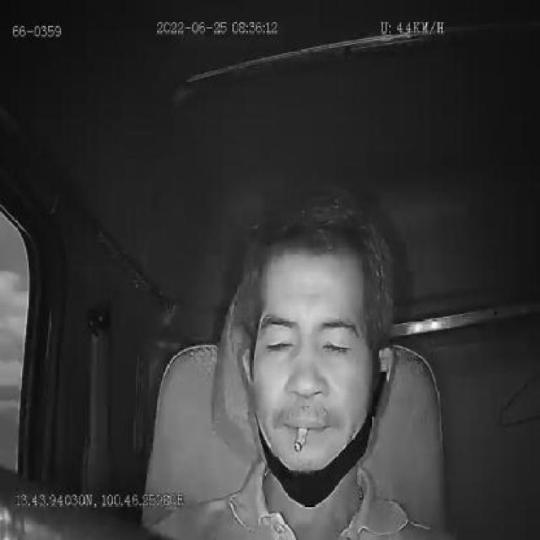smoking: (292, 426, 306, 452)
